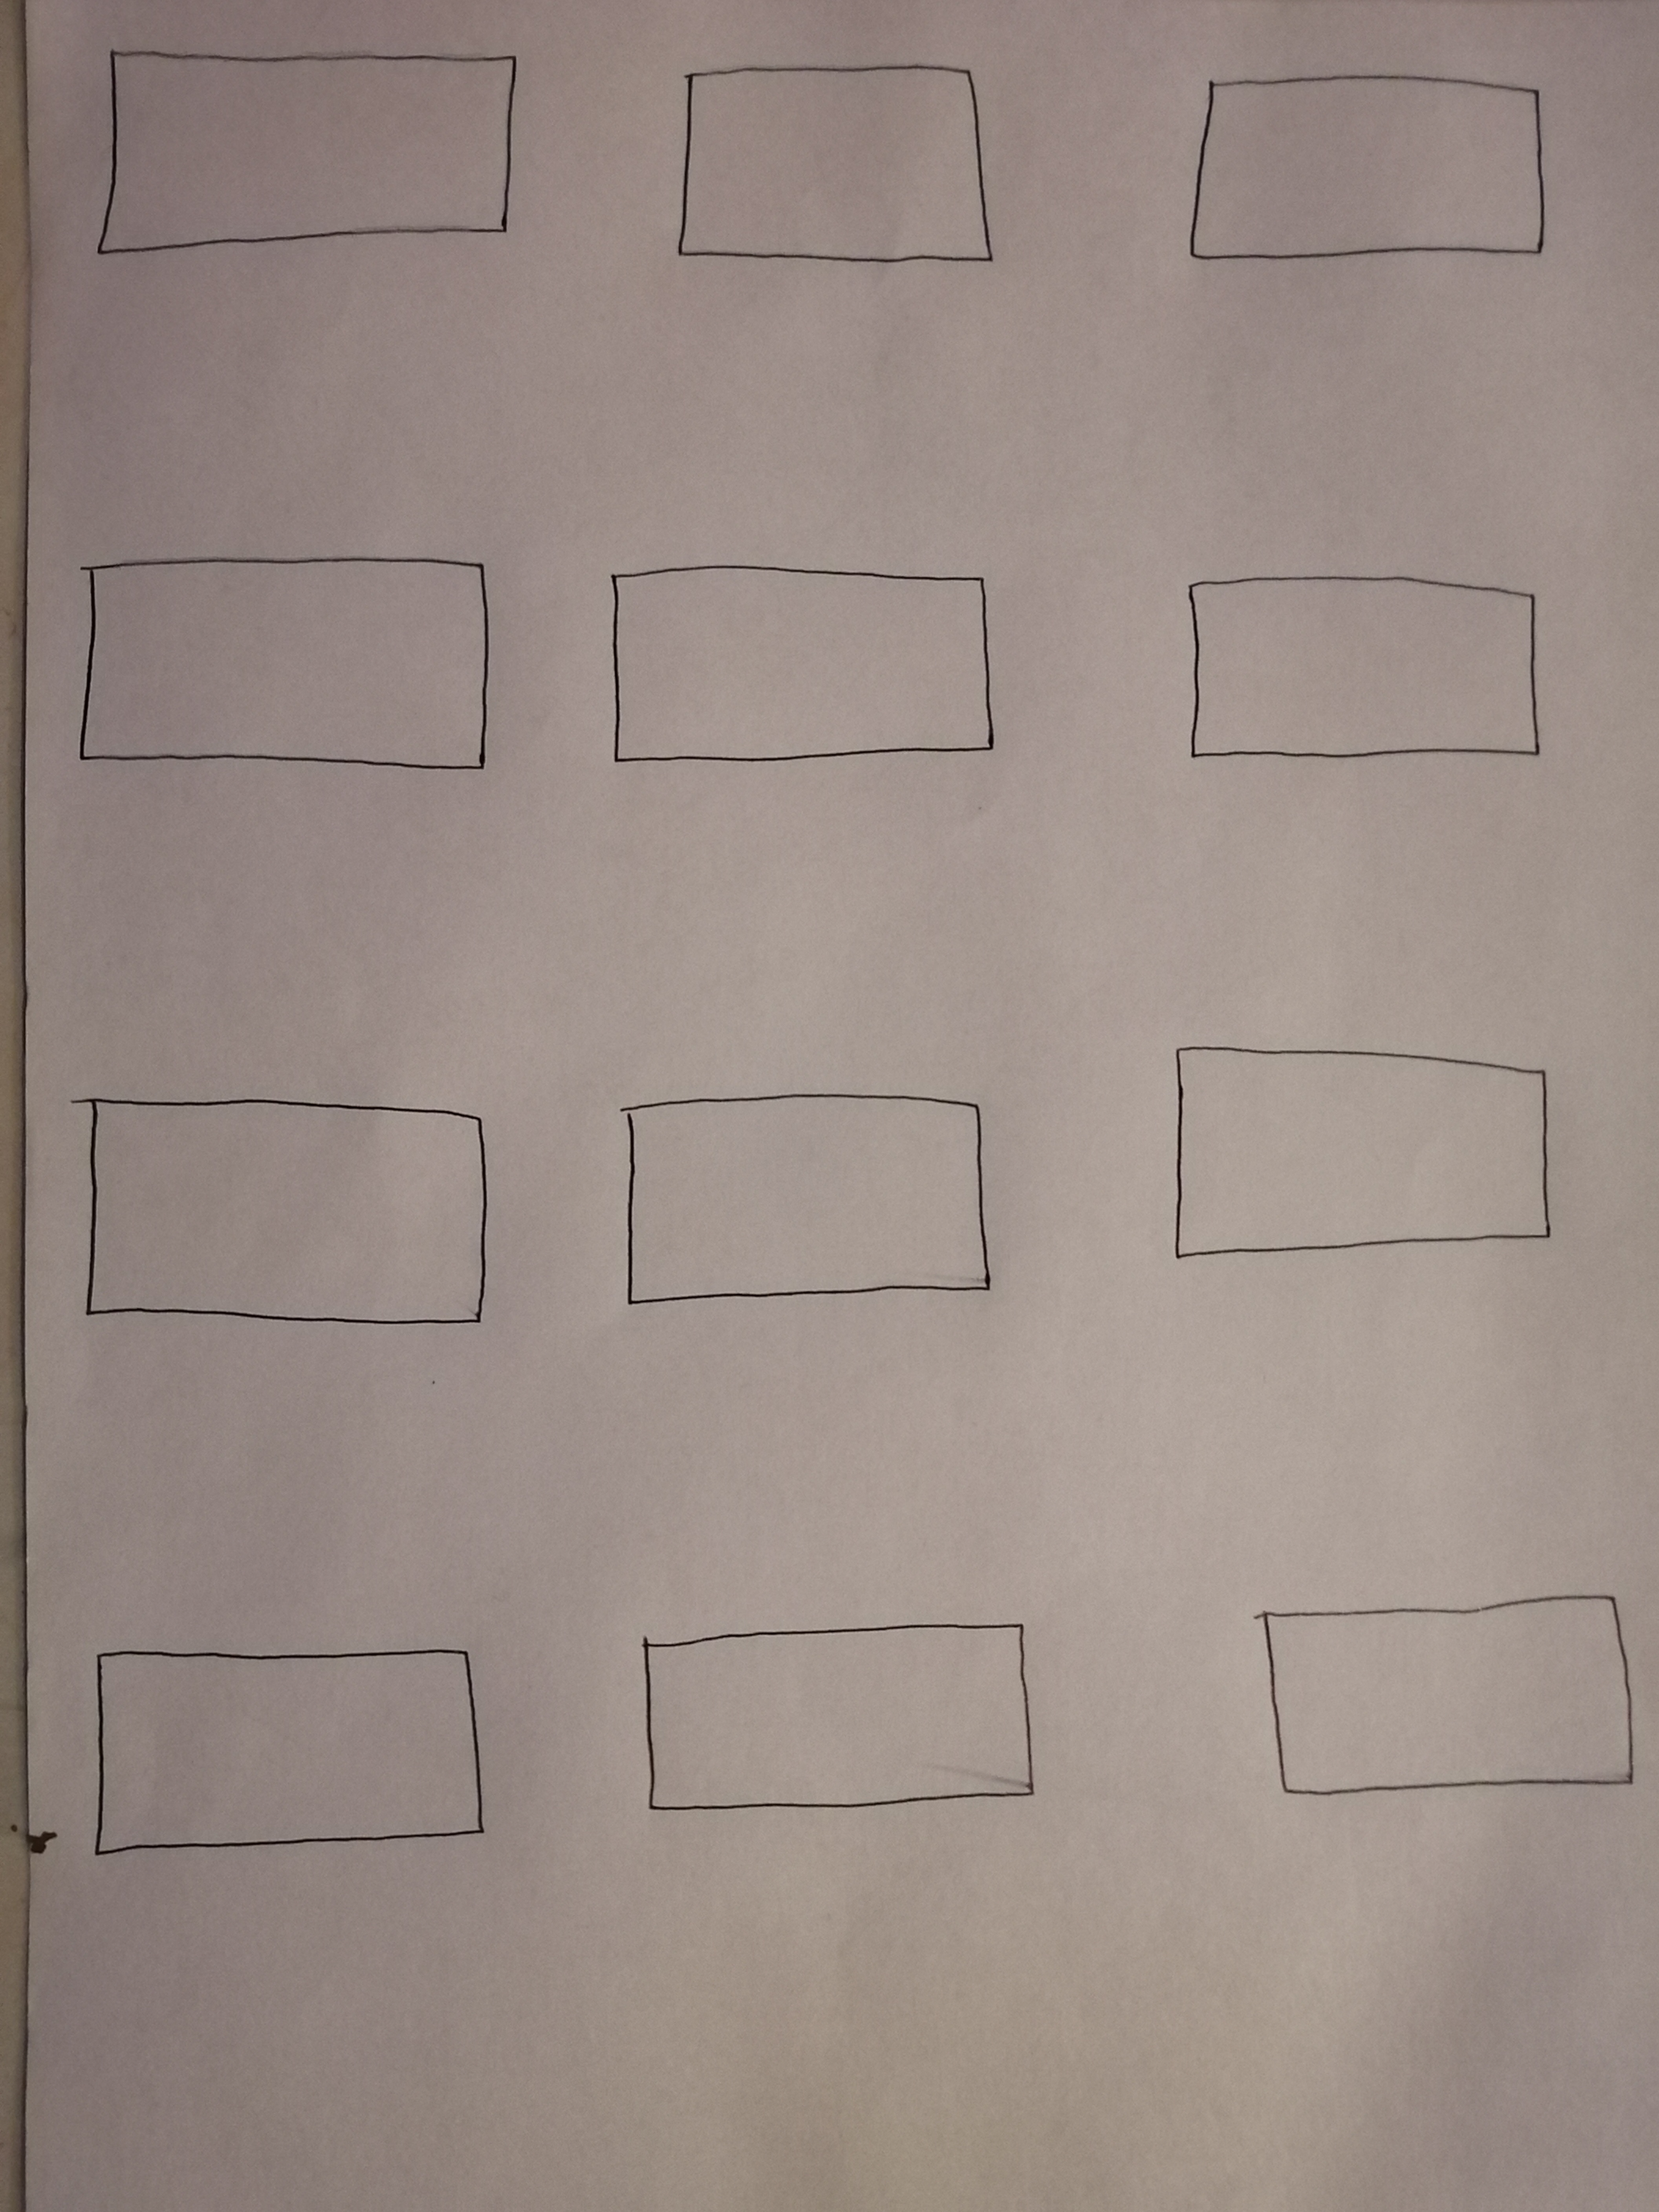process: (52, 1075, 542, 1362), (1138, 1021, 1614, 1306), (71, 24, 566, 293), (59, 538, 528, 813), (582, 538, 1039, 820), (606, 1606, 1124, 1851), (64, 1627, 532, 1885), (1159, 45, 1591, 320), (610, 1085, 1035, 1352), (1145, 563, 1577, 817), (1220, 1569, 1656, 1820), (653, 56, 1039, 296)
